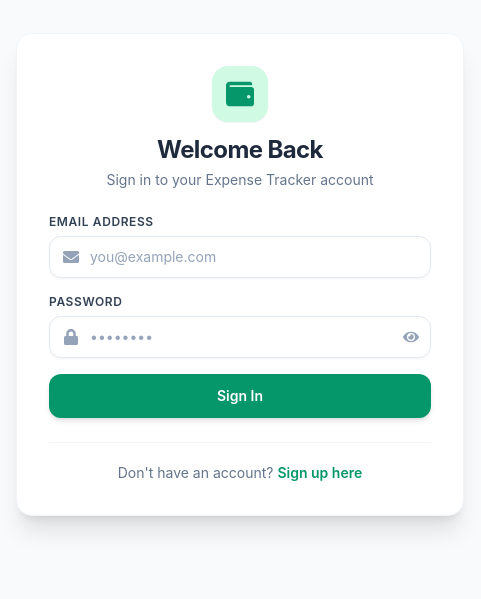
it: LoginPage Component › validates empty password and displays Alert banner
The image size is (481, 599).
Type "user@example.com" into the field labelled "Email Address".
click(240, 256); type("user@example.com")  # box [49, 236, 431, 278]
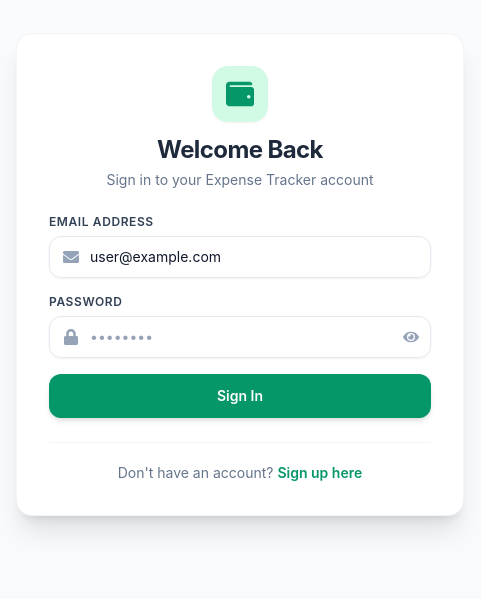
Click the button "Sign In".
click(240, 396)  # box [49, 374, 431, 418]
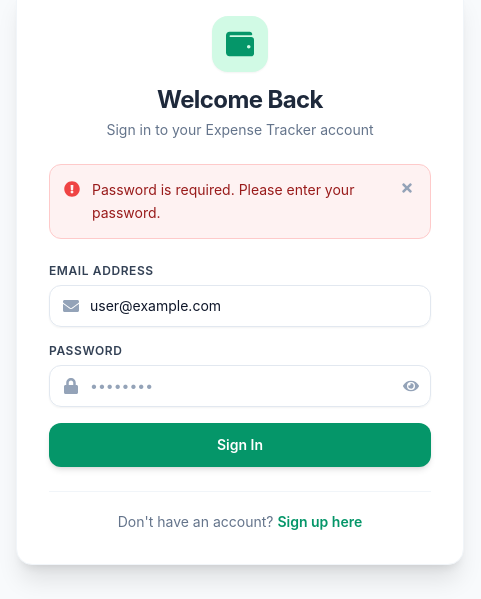
Expected: the message "Password is required. Please enter your password." is shown, [49, 164, 431, 239]
Expected: the text "Password is required. Please enter your password." is shown, [92, 179, 382, 224]
